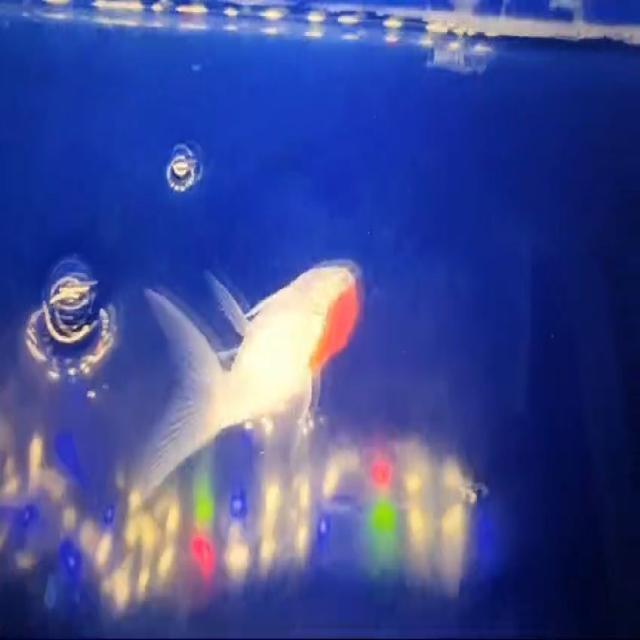fish: (140, 246, 358, 492)
